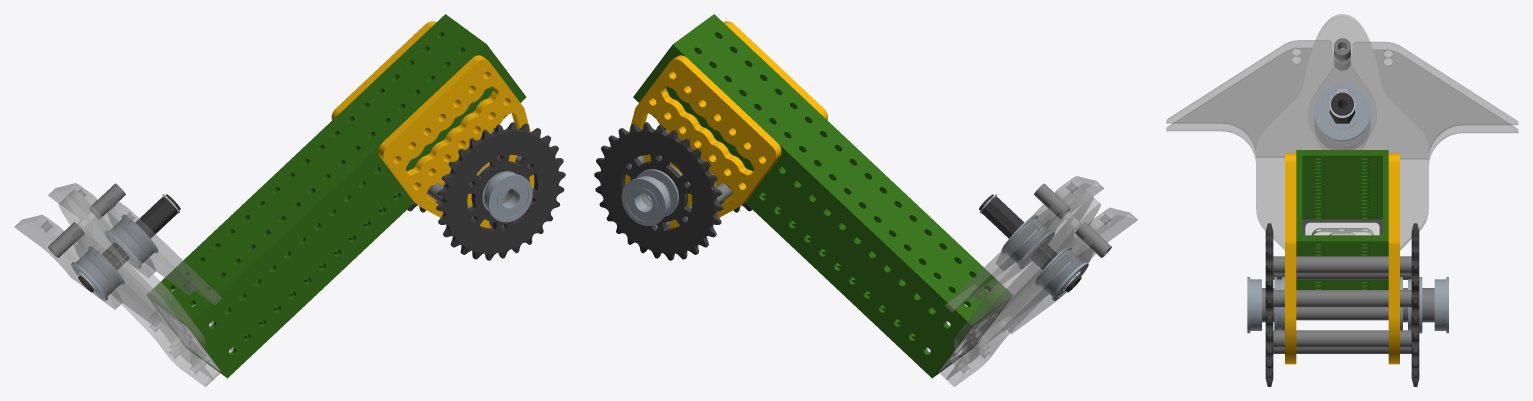
The picture shows the model from 3 angles, left to right: view 1: azimuth 30°, elevation 25°; view 2: azimuth 150°, elevation 25°; view 3: azimuth 270°, elevation 25°; orthographic projection. The views are drawn at different scales.
Parts seen in each view (by area): view 1: Climb Tube, Climb to Mount Gusset (×2), 28t Bearing Bore Plate 35 Chain Sprocket (217-2653), Arrowhead climb plate (×4), Mid plate arrohead (×2), .5" Hex ID 1.125" OD Flanged Bearing (217-2734) (×4), .5" Round ID 1.125" OD Flanged Bearing (217-2731), Shaft, 2nd Stage Motor Plate Big Spacers (×2), 2" x 2" Tube Plug 0.060" Wall, #10-32 Tapped (WCP-0373); view 2: Climb Tube, Climb to Mount Gusset (×2), Arrowhead climb plate (×4), 28t Bearing Bore Plate 35 Chain Sprocket (217-2653), Mid plate arrohead (×2), .5" Hex ID 1.125" OD Flanged Bearing (217-2734) (×4), .5" Round ID 1.125" OD Flanged Bearing (217-2731) (×2), Shaft, 2nd Stage Motor Plate Big Spacers (×2), 2" x 2" Tube Plug 0.060" Wall, #10-32 Tapped (WCP-0373); view 3: Arrowhead climb plate (×4), Mid plate arrohead (×2), Climb Tube, Climb to Mount Big Spacer (×6), Climb to Mount Gusset (×2), 28t Bearing Bore Plate 35 Chain Sprocket (217-2653) (×2), .5" Round ID 1.125" OD Flanged Bearing (217-2731) (×3), .5" Hex ID 1.125" OD Flanged Bearing (217-2734), 2" x 2" Tube Plug 0.060" Wall, #10-32 Tapped (WCP-0373), Shaft, Spacer for Big Climb Sprocket, 2nd Stage Motor Plate Big Spacers.
Boxes of the visible parts, x1,y1,x2,y2 form: Climb Tube: [147, 14, 526, 378]; Climb to Mount Gusset (×2): [331, 21, 534, 228]; 28t Bearing Bore Plate 35 Chain Sprocket (217-2653): [436, 122, 565, 260]; Arrowhead climb plate (×4): [14, 183, 221, 336]; Mid plate arrohead (×2): [58, 189, 220, 386]; .5" Hex ID 1.125" OD Flanged Bearing (217-2734) (×4): [71, 214, 158, 300]; .5" Round ID 1.125" OD Flanged Bearing (217-2731): [484, 172, 532, 222]; Shaft: [78, 194, 180, 292]; 2nd Stage Motor Plate Big Spacers (×2): [48, 183, 125, 257]; 2" x 2" Tube Plug 0.060" Wall, #10-32 Tapped (WCP-0373): [153, 289, 233, 372]; Climb Tube: [633, 14, 1012, 378]; Climb to Mount Gusset (×2): [625, 21, 827, 227]; Arrowhead climb plate (×4): [945, 176, 1137, 343]; 28t Bearing Bore Plate 35 Chain Sprocket (217-2653): [594, 122, 723, 260]; Mid plate arrohead (×2): [939, 189, 1100, 386]; .5" Hex ID 1.125" OD Flanged Bearing (217-2734) (×4): [1001, 214, 1088, 300]; .5" Round ID 1.125" OD Flanged Bearing (217-2731) (×2): [621, 169, 678, 225]; Shaft: [979, 194, 1081, 292]; 2nd Stage Motor Plate Big Spacers (×2): [1034, 183, 1111, 257]; 2" x 2" Tube Plug 0.060" Wall, #10-32 Tapped (WCP-0373): [926, 289, 1007, 372]; Arrowhead climb plate (×4): [1166, 40, 1518, 163]; Mid plate arrohead (×2): [1256, 14, 1428, 250]; Climb Tube: [1296, 150, 1388, 289]; Climb to Mount Big Spacer (×6): [1296, 256, 1388, 353]; Climb to Mount Gusset (×2): [1285, 153, 1399, 364]; 28t Bearing Bore Plate 35 Chain Sprocket (217-2653) (×2): [1265, 223, 1419, 386]; .5" Round ID 1.125" OD Flanged Bearing (217-2731) (×3): [1247, 277, 1448, 333]; .5" Hex ID 1.125" OD Flanged Bearing (217-2734): [1314, 84, 1370, 140]; 2" x 2" Tube Plug 0.060" Wall, #10-32 Tapped (WCP-0373): [1302, 219, 1382, 235]; Shaft: [1329, 89, 1355, 123]; Spacer for Big Climb Sprocket: [1403, 288, 1434, 322]; 2nd Stage Motor Plate Big Spacers: [1334, 38, 1350, 60].
Size of the model in its own units: 0.341 by 0.1899 by 0.1943.
